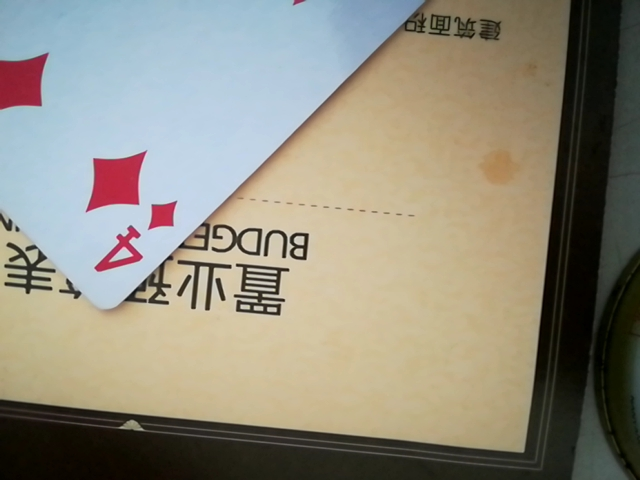fk 4: (0, 0, 486, 322)
